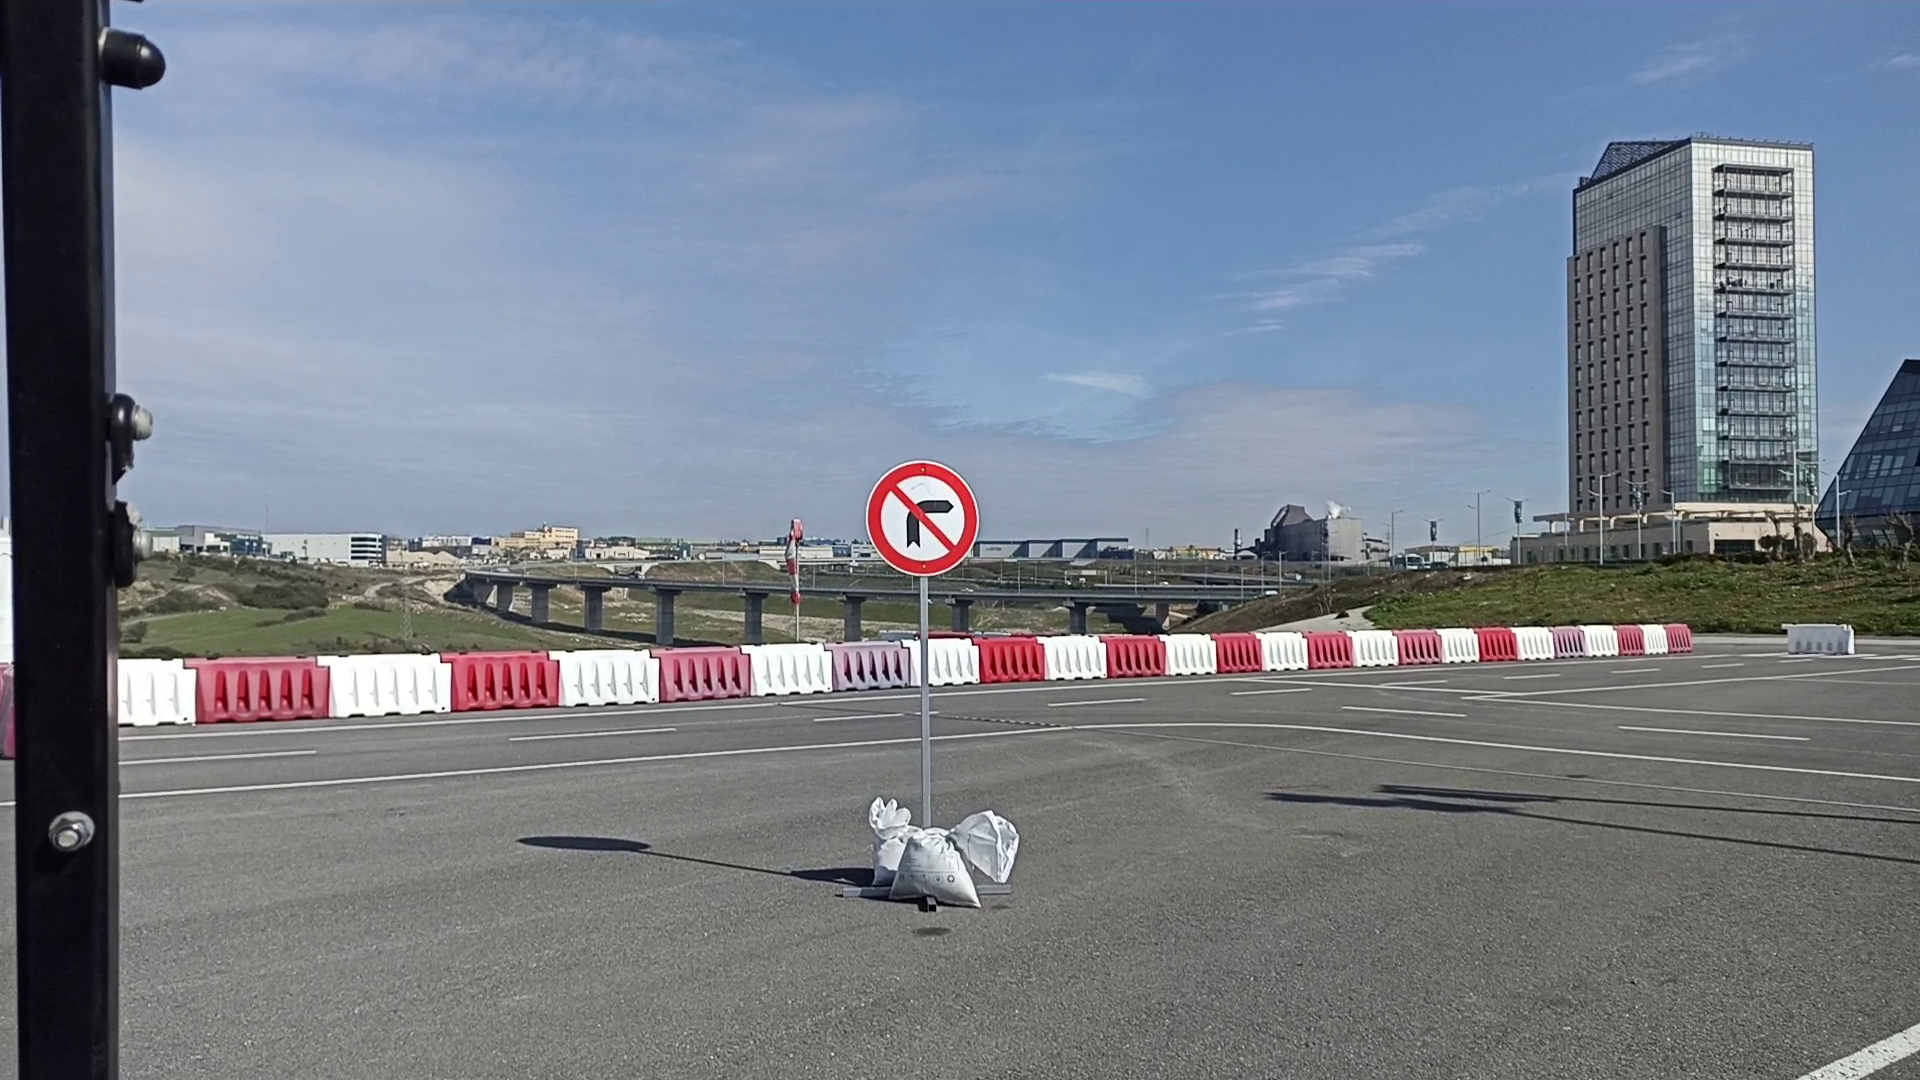noleftturn: (862, 458, 982, 579)
